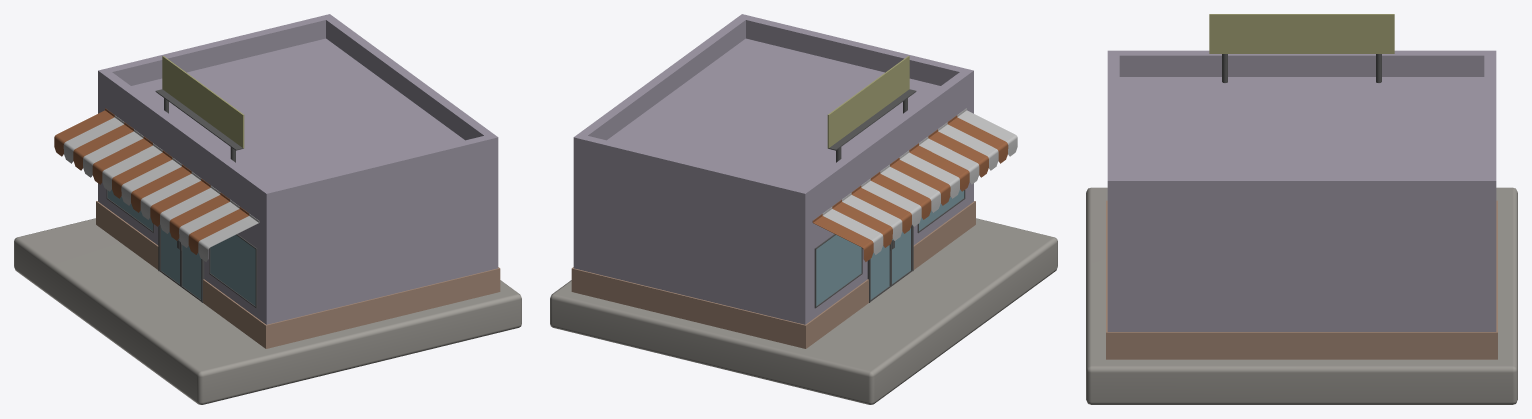
File: Consumer_tile.fbx
The picture shows the model from 3 angles, left to right: view 1: azimuth 30°, elevation 25°; view 2: azimuth 150°, elevation 25°; view 3: azimuth 270°, elevation 25°; orthographic projection. The views are drawn at different scales.
Visible parts, largest first — view 1: Consumer_tile; view 2: Consumer_tile; view 3: Consumer_tile.
Boxes of the visible parts, bbox=[...] form: Consumer_tile: bbox=[14, 14, 521, 404]; Consumer_tile: bbox=[550, 14, 1057, 404]; Consumer_tile: bbox=[1086, 14, 1517, 404].
Size of the model in its own units: 100 by 67.75 by 100.
